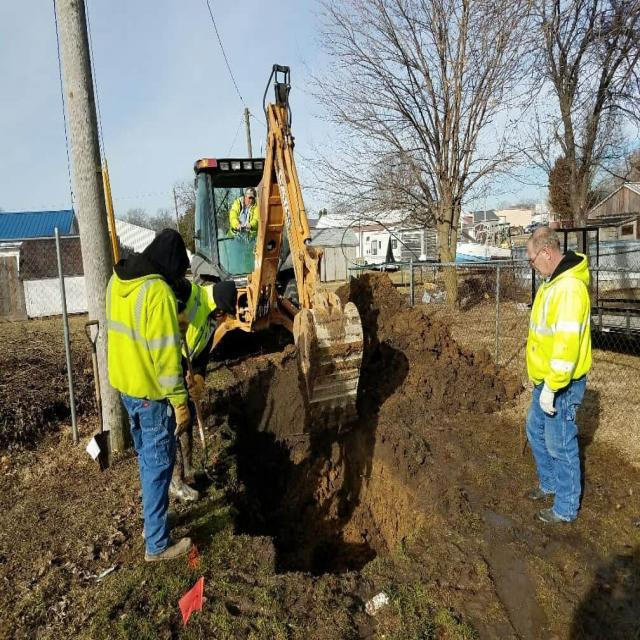Reflective-Jacket: (103, 268, 197, 410), (524, 257, 594, 393)
